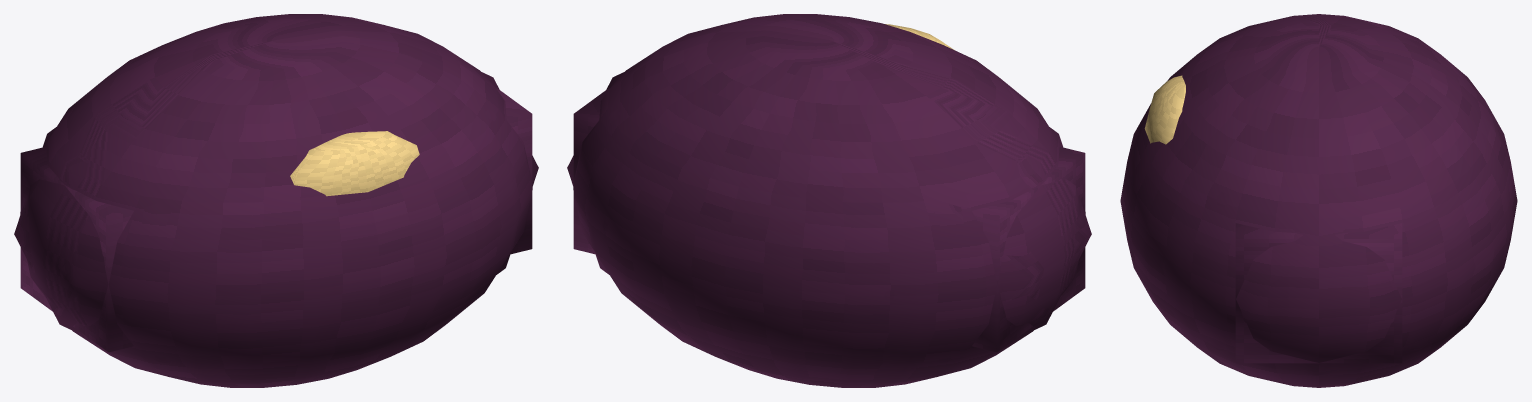
Rendered from ENM_Anchor.glb.
The picture shows the model from 3 angles, left to right: view 1: azimuth 30°, elevation 25°; view 2: azimuth 150°, elevation 25°; view 3: azimuth 270°, elevation 25°; orthographic projection. The views are drawn at different scales.
Visible parts, largest first — view 1: VIS_ENM_Anchor_LOD0, VIS_ENM_Anchor_Crest, FRAG_ENM_Anchor_01, COL_ENM_Anchor_Hull, FRAG_ENM_Anchor_02; view 2: VIS_ENM_Anchor_LOD0, FRAG_ENM_Anchor_01, COL_ENM_Anchor_Hull, FRAG_ENM_Anchor_02; view 3: VIS_ENM_Anchor_LOD0, FRAG_ENM_Anchor_02, COL_ENM_Anchor_Hull, VIS_ENM_Anchor_Crest.
Boxes of the visible parts, x1,y1,x2,y2 form: VIS_ENM_Anchor_LOD0: (20, 14, 532, 387); VIS_ENM_Anchor_Crest: (290, 131, 419, 196); FRAG_ENM_Anchor_01: (20, 147, 133, 352); COL_ENM_Anchor_Hull: (14, 72, 538, 363); FRAG_ENM_Anchor_02: (496, 88, 532, 254); VIS_ENM_Anchor_LOD0: (573, 14, 1085, 387); FRAG_ENM_Anchor_01: (972, 147, 1085, 352); COL_ENM_Anchor_Hull: (567, 72, 1091, 363); FRAG_ENM_Anchor_02: (573, 88, 609, 254); VIS_ENM_Anchor_LOD0: (1120, 14, 1517, 387); FRAG_ENM_Anchor_02: (1235, 223, 1402, 363); COL_ENM_Anchor_Hull: (1160, 191, 1477, 375); VIS_ENM_Anchor_Crest: (1144, 75, 1185, 144).
Size of what is drawn, in the model's own units: 1.3 by 0.85 by 1.
Materials: 2 (2 with a texture image).
